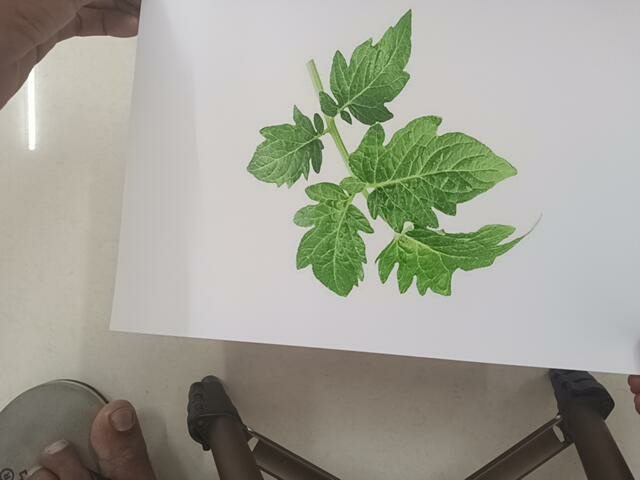Tomamto_Leaf_Healthy: (237, 15, 553, 300)
